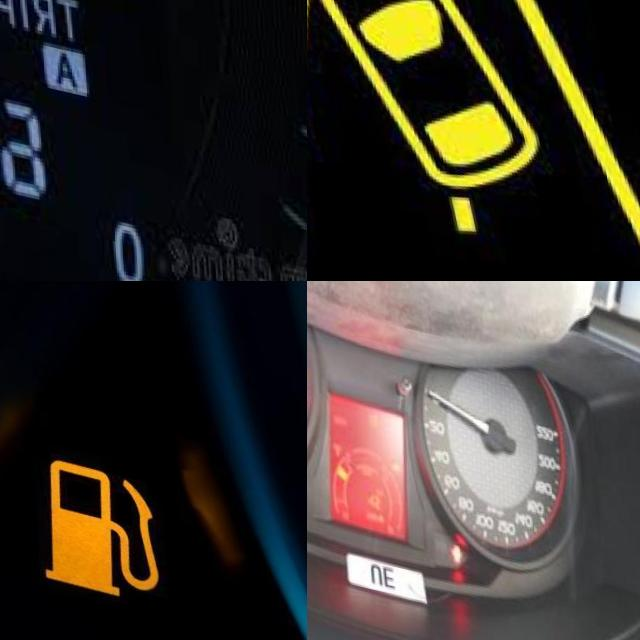Seat Belt: (445, 524, 459, 547)
